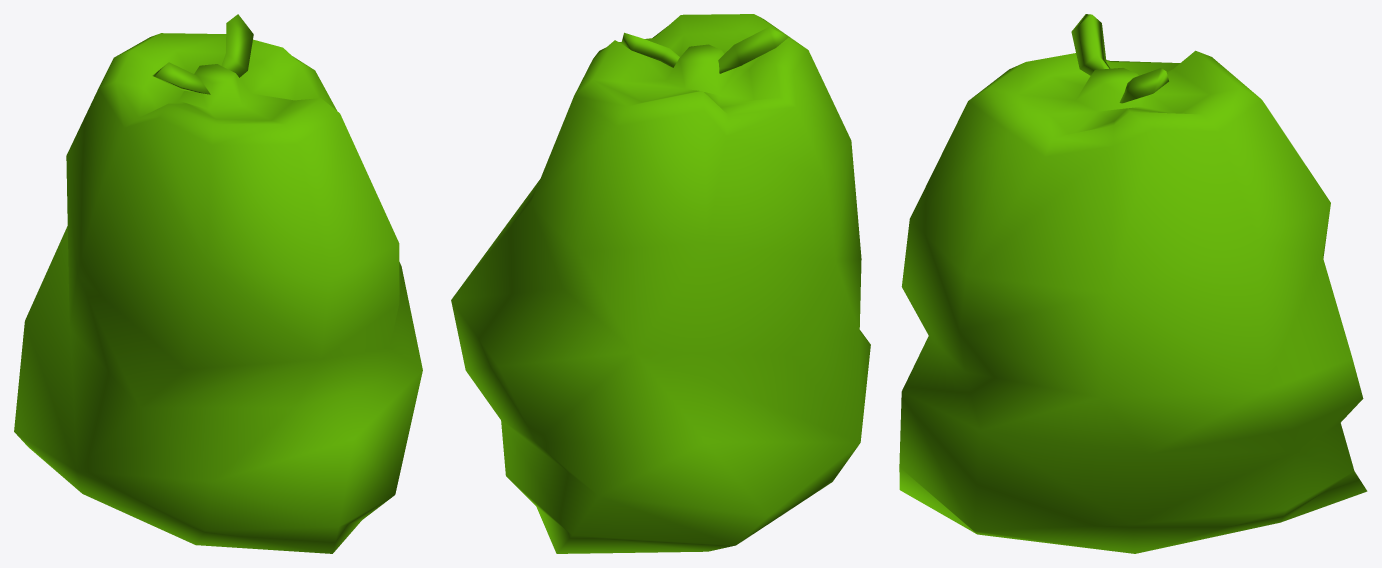
Rendered from BinBagClosedNight.glb.
3 views of the same model, side by side, from view 1: azimuth 30°, elevation 25°; view 2: azimuth 150°, elevation 25°; view 3: azimuth 270°, elevation 25° (orthographic).
Visible parts, largest first — view 1: BinBagClosedNight; view 2: BinBagClosedNight; view 3: BinBagClosedNight.
Boxes of the visible parts, box(x1,y1,x2,y2) form: BinBagClosedNight: box(14, 14, 422, 553); BinBagClosedNight: box(451, 14, 870, 553); BinBagClosedNight: box(899, 14, 1367, 553).
Bounding box in the file's own units: 0.8954 × 1.17 × 1.1.
1 material, 1 textured.
